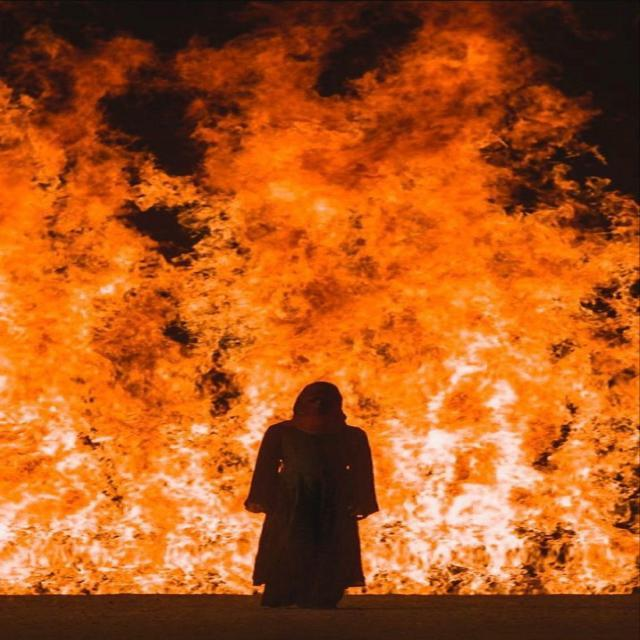Fire: (9, 27, 332, 594), (349, 40, 582, 592)
